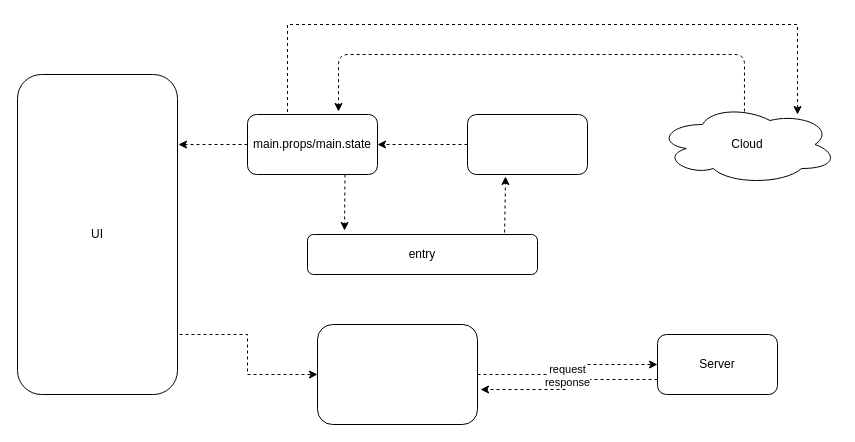
Image size: 855x442. Some labels were removed from this diagram. The centre of each missing label's shape, as x and y in pixels:
"renderTemplate" goes at (x=527, y=144).
"Store Connect{ Json }" goes at (x=397, y=374).
